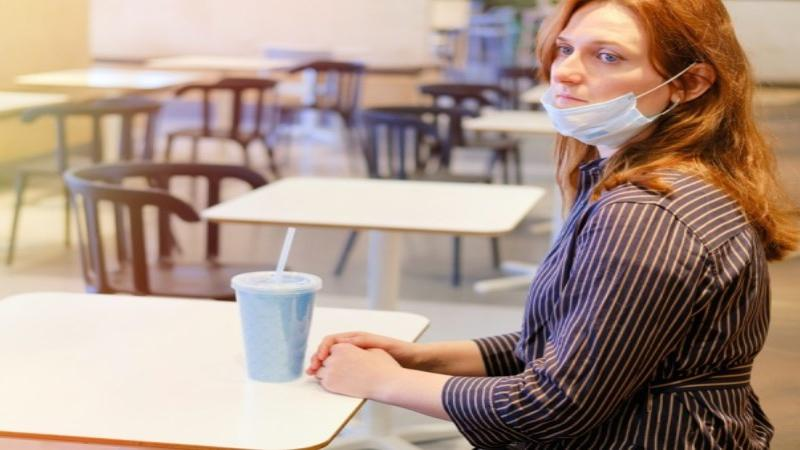mask_weared_incorrect: (542, 1, 745, 148)
